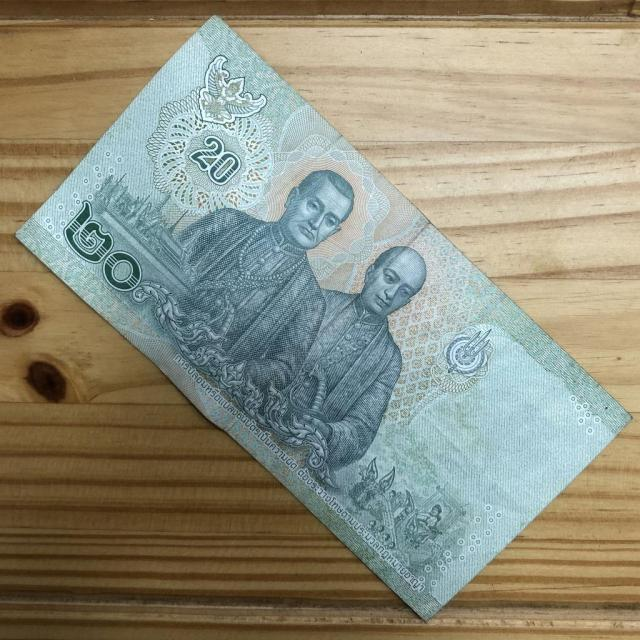THAI20: (17, 19, 631, 619)
